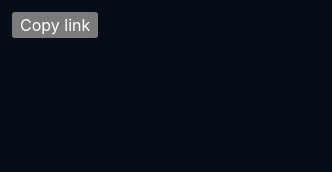
Scenario: clears obsolete success feedback when the committed callback changes or sharing becomes disabled
Later steps or results of the test are not shown.
Click the button "Copy link".
click(55, 25)  # box [12, 12, 98, 38]
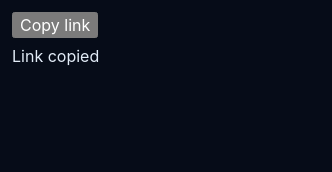
expect the message "Link copied" is shown: met, box [12, 46, 99, 66]
